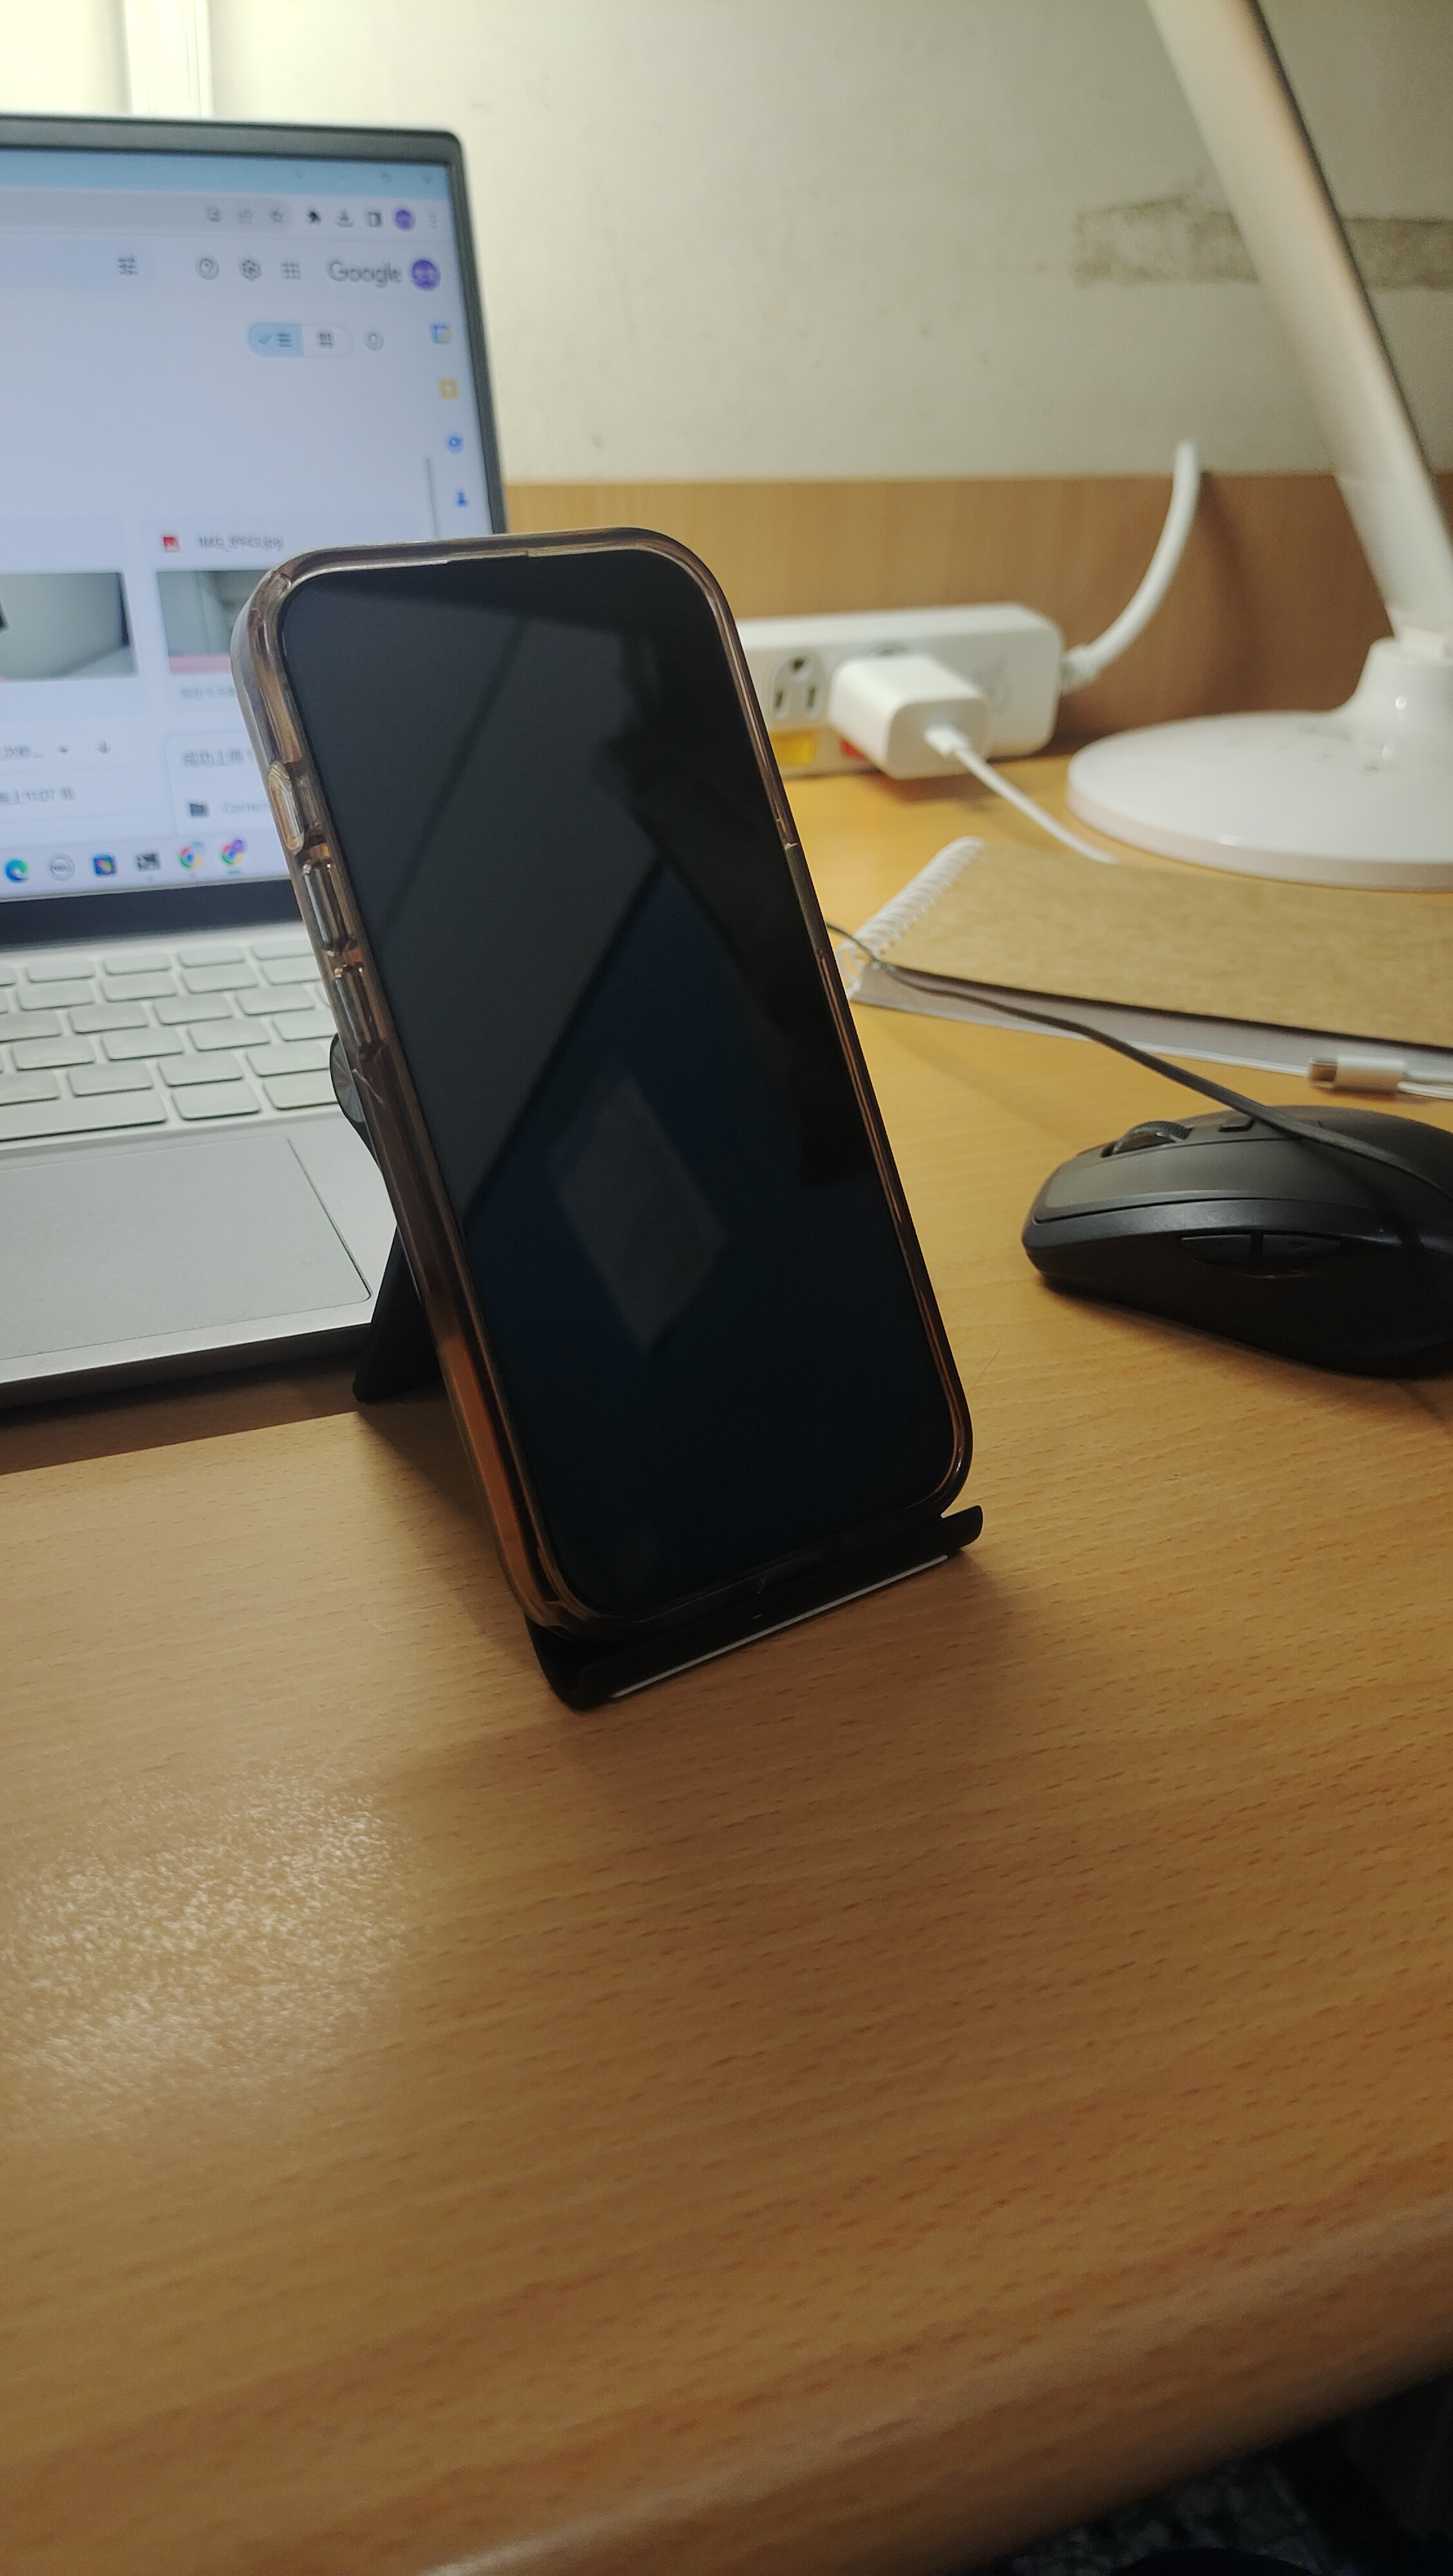iphone: (225, 527, 972, 1631)
